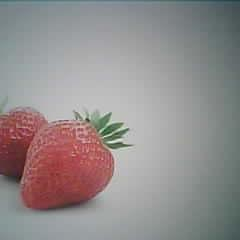straw-ripe: (20, 120, 115, 206)
